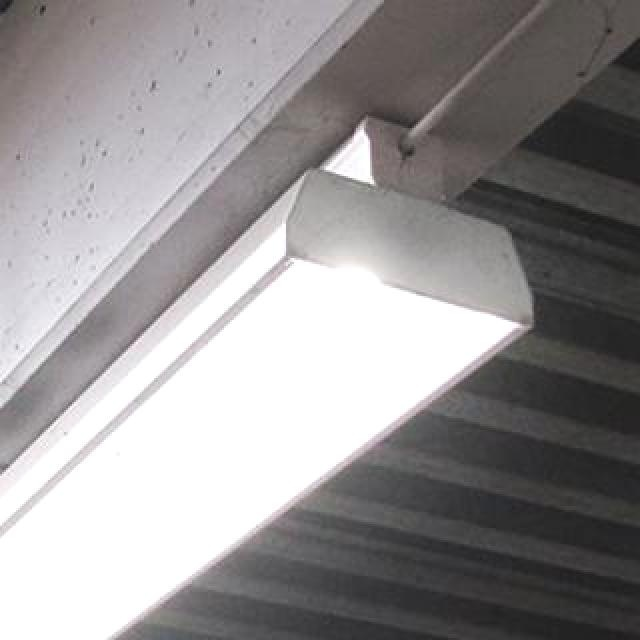fluorescent tube: (0, 156, 540, 640)
